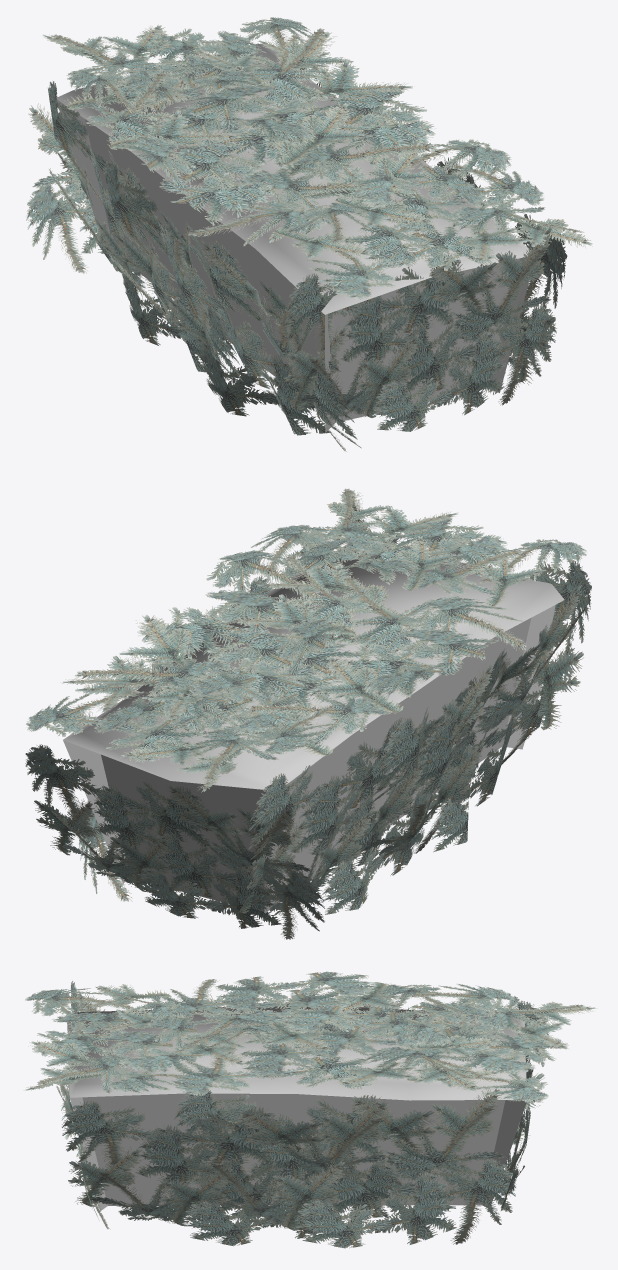
Rendered from Hedge final.fbx.
3 views of the same model, one above another, from view 1: azimuth 30°, elevation 25°; view 2: azimuth 150°, elevation 25°; view 3: azimuth 270°, elevation 25° (orthographic). The views are drawn at different scales.
Visible parts, largest first — view 1: polySurface607; view 2: polySurface607; view 3: polySurface607.
Boxes of the visible parts, <box> form: polySurface607: <box>26,17,592,451</box>; polySurface607: <box>25,488,591,939</box>; polySurface607: <box>23,971,597,1248</box>.
Size of the model in its own units: 740 by 525 by 1373.
